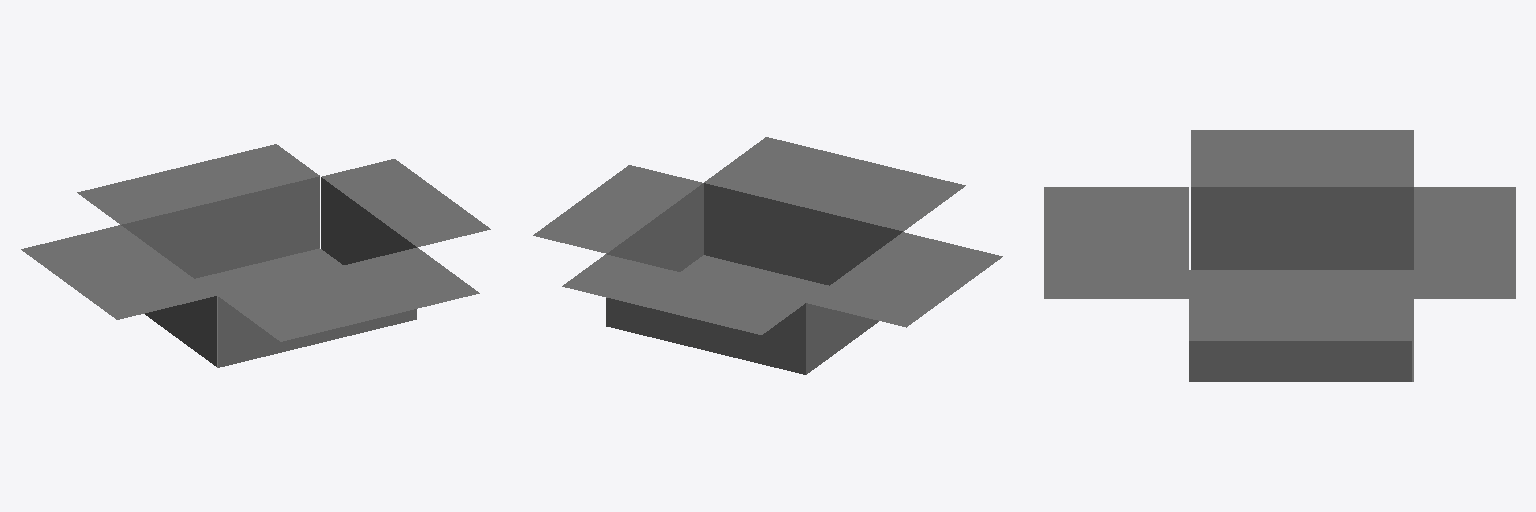
The robot description file, URDF, robot "jaco":
<?xml version="1.0" ?>
<!-- =================================================================================== -->
<!-- |    This document was autogenerated by xacro from jaco_standalone.urdf.xacro     | -->
<!-- |    EDITING THIS FILE BY HAND IS NOT RECOMMENDED                                 | -->
<!-- =================================================================================== -->
<!--
Software License Agreement (BSD)
\file      vector.urdf.xacro
\authors   [author]
\copyright Copyright (c) 2015, Stanley Innovation, Inc., All rights reserved.
Redistribution and use in source and binary forms, with or without modification, are permitted provided that
the following conditions are met:
 * Redistributions of source code must retain the above copyright notice, this list of conditions and the
   following disclaimer.
 * Redistributions in binary form must reproduce the above copyright notice, this list of conditions and the
   following disclaimer in the documentation and/or other materials provided with the distribution.
 * Neither the name of Stanley Innovation nor the names of its contributors may be used to endorse or promote
   products derived from this software without specific prior written permission.
THIS SOFTWARE IS PROVIDED BY THE COPYRIGHT [author] "AS IS" AND ANY EXPRESS OR IMPLIED WAR-
RANTIES, INCLUDING, BUT NOT LIMITED TO, THE IMPLIED WARRANTIES OF MERCHANTABILITY AND FITNESS FOR A PARTICULAR
PURPOSE ARE DISCLAIMED. IN NO EVENT SHALL THE COPYRIGHT [author] LIABLE FOR ANY DIRECT, IN-
DIRECT, INCIDENTAL, SPECIAL, EXEMPLARY, OR CONSEQUENTIAL DAMAGES (INCLUDING, BUT NOT LIMITED TO, PROCUREMENT
OF SUBSTITUTE GOODS OR SERVICES; LOSS OF USE, DATA, OR PROFITS; OR BUSINESS INTERRUPTION) HOWEVER CAUSED AND
ON ANY THEORY OF LIABILITY, WHETHER IN CONTRACT, STRICT LIABILITY, OR TORT (INCLUDING NEGLIGENCE OR OTHERWISE)
ARISING IN ANY WAY OUT OF THE USE OF THIS SOFTWARE, EVEN IF ADVISED OF THE POSSIBILITY OF SUCH DAMAGE.
-->

<robot name="jaco" xmlns:xacro="http://ros.org/wiki/xacro">
  <link name="robotiq_85_base_link">

    <collision>
      <geometry>
        <mesh filename="../objfiles/openbox.obj" scale=".0003 .0003 .0002"/>
      </geometry>
    </collision>

     <visual>
      <origin rpy="0 0 0" xyz="0 0 0"/>
      <geometry>
	     <mesh filename="../objfiles/openbox.obj" scale=".0003 .0003 .0002"/>
      </geometry>
       <material name="grey">
        <color rgba="0.5 0.5 0.5 1"/>
      </material>
    </visual>

    <inertial>
      <mass value="10"/>
      <origin xyz="0.0 0.0 0.0"/>
      <inertia ixx="1" ixy="0" ixz="0" iyy="1" iyz="0" izz="1"/>
    </inertial>

     <contact concave="yes">
      <lateral_friction value="1.0"/>
      <rolling_friction value="0.0"/>
      <inertia_scaling value="3.0"/>
      <contact_cfm value="0.0"/>
      <contact_erp value="1.0"/>
    </contact>


  </link>
</robot>

--- Facts derived from the render (not from the file) ---
Views: 3 orthographic renders of the robot side by side, from view 1: azimuth 30°, elevation 25°; view 2: azimuth 150°, elevation 25°; view 3: azimuth 270°, elevation 25°.
Robot: jaco — 1 links, 0 joints (none); root link robotiq_85_base_link; default pose: every joint at zero.
Links seen in each view (by area): view 1: robotiq_85_base_link; view 2: robotiq_85_base_link; view 3: robotiq_85_base_link.
Boxes of the visible links, <box> form: robotiq_85_base_link: <box>21,144,490,367</box>; robotiq_85_base_link: <box>533,137,1002,374</box>; robotiq_85_base_link: <box>1044,130,1515,381</box>.
Bounding box of the posed robot: 0.2984 × 0.2823 × 0.0549 m (x, y, z).
1 mesh visuals loaded from 1 distinct referenced files (1 OBJ).